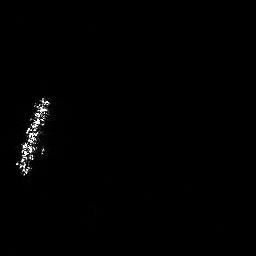ship: (14, 94, 51, 178)
